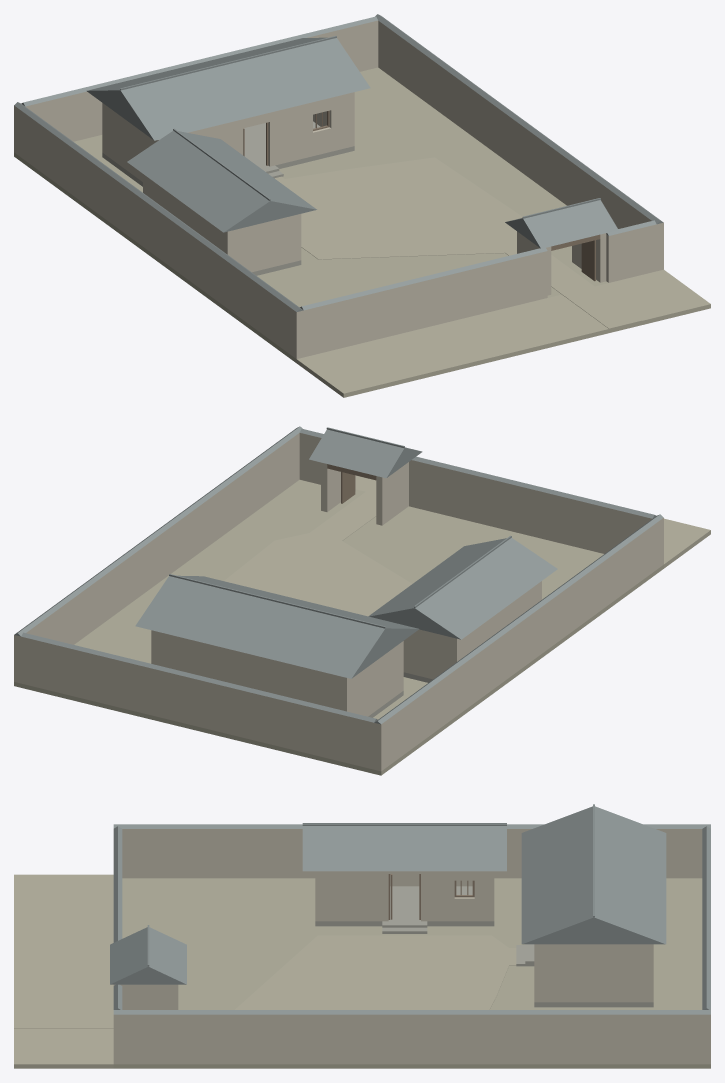
3 views of the same model, one above another, from view 1: azimuth 30°, elevation 25°; view 2: azimuth 150°, elevation 25°; view 3: azimuth 270°, elevation 25° (orthographic). The views are drawn at different scales.
Parts seen in each view (by area): view 1: architecture_C_whitebox_earth_wall, architecture_C_roof_rhythm_not_glaze_copy, site_lot, designed_hardpacked_activity_ground, site_neutral_lane, architecture_C_floor_plinth, architecture_C_plain_timber; view 2: architecture_C_whitebox_earth_wall, architecture_C_roof_rhythm_not_glaze_copy, site_lot, designed_hardpacked_activity_ground, site_neutral_lane, architecture_C_plain_timber; view 3: architecture_C_whitebox_earth_wall, architecture_C_roof_rhythm_not_glaze_copy, site_lot, designed_hardpacked_activity_ground, site_neutral_lane, architecture_C_floor_plinth, architecture_C_plain_timber.
Part boxes in pixels (bbox=[...]): architecture_C_whitebox_earth_wall: bbox=[14, 20, 663, 358]; architecture_C_roof_rhythm_not_glaze_copy: bbox=[14, 14, 663, 311]; site_lot: bbox=[14, 67, 608, 362]; designed_hardpacked_activity_ground: bbox=[275, 157, 641, 328]; site_neutral_lane: bbox=[296, 269, 710, 397]; architecture_C_floor_plinth: bbox=[102, 121, 354, 275]; architecture_C_plain_timber: bbox=[243, 110, 600, 281]; architecture_C_whitebox_earth_wall: bbox=[14, 433, 663, 771]; architecture_C_roof_rhythm_not_glaze_copy: bbox=[14, 426, 663, 724]; site_lot: bbox=[14, 480, 663, 775]; designed_hardpacked_activity_ground: bbox=[224, 484, 412, 616]; site_neutral_lane: bbox=[355, 475, 710, 568]; architecture_C_plain_timber: bbox=[327, 464, 376, 503]; architecture_C_whitebox_earth_wall: bbox=[113, 829, 710, 1064]; architecture_C_roof_rhythm_not_glaze_copy: bbox=[110, 804, 710, 1014]; site_lot: bbox=[113, 878, 710, 1068]; designed_hardpacked_activity_ground: bbox=[14, 935, 516, 1028]; site_neutral_lane: bbox=[14, 874, 113, 1068]; architecture_C_floor_plinth: bbox=[315, 886, 653, 1007]; architecture_C_plain_timber: bbox=[388, 874, 474, 919].
Bounding box in the file's own units: 18 × 4.49 × 28.
